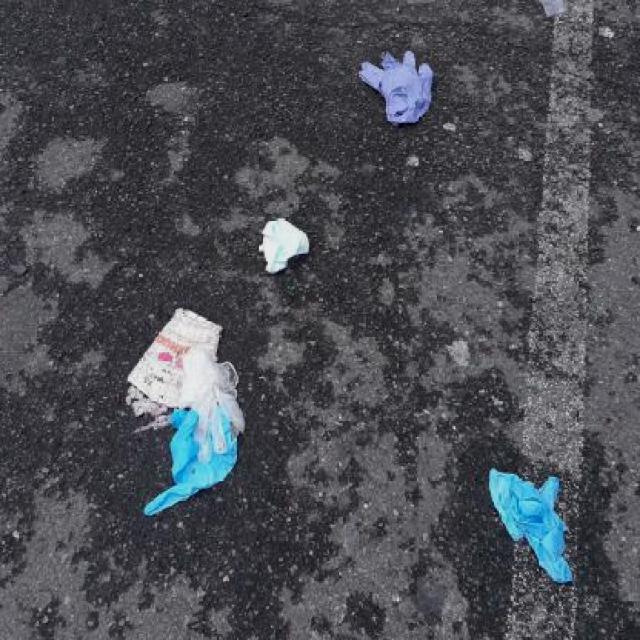glove: (130, 345, 262, 533), (471, 442, 587, 598), (338, 35, 442, 148), (243, 196, 329, 322)
